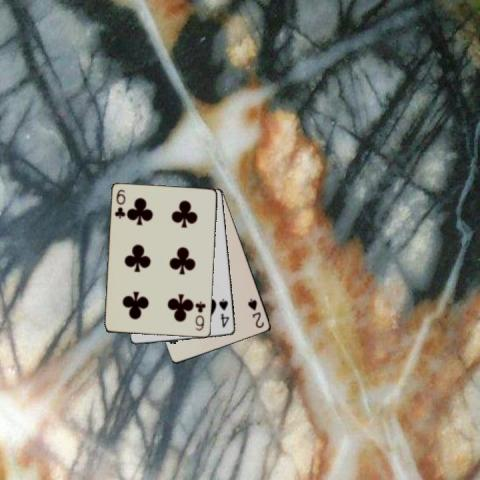2s: (245, 296, 265, 330)
4s: (216, 297, 231, 329)
6c: (112, 187, 127, 220), (193, 299, 207, 332)
